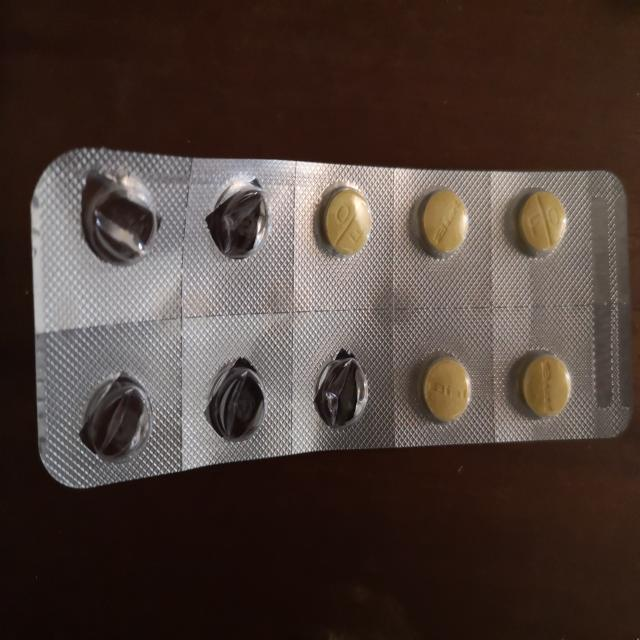Empty: (80, 162, 164, 271), (72, 369, 158, 462), (198, 353, 278, 442), (202, 165, 272, 259), (308, 345, 374, 433)
Pill: (412, 347, 477, 428), (510, 182, 572, 266), (310, 183, 376, 260), (412, 181, 473, 261), (515, 344, 570, 427)
